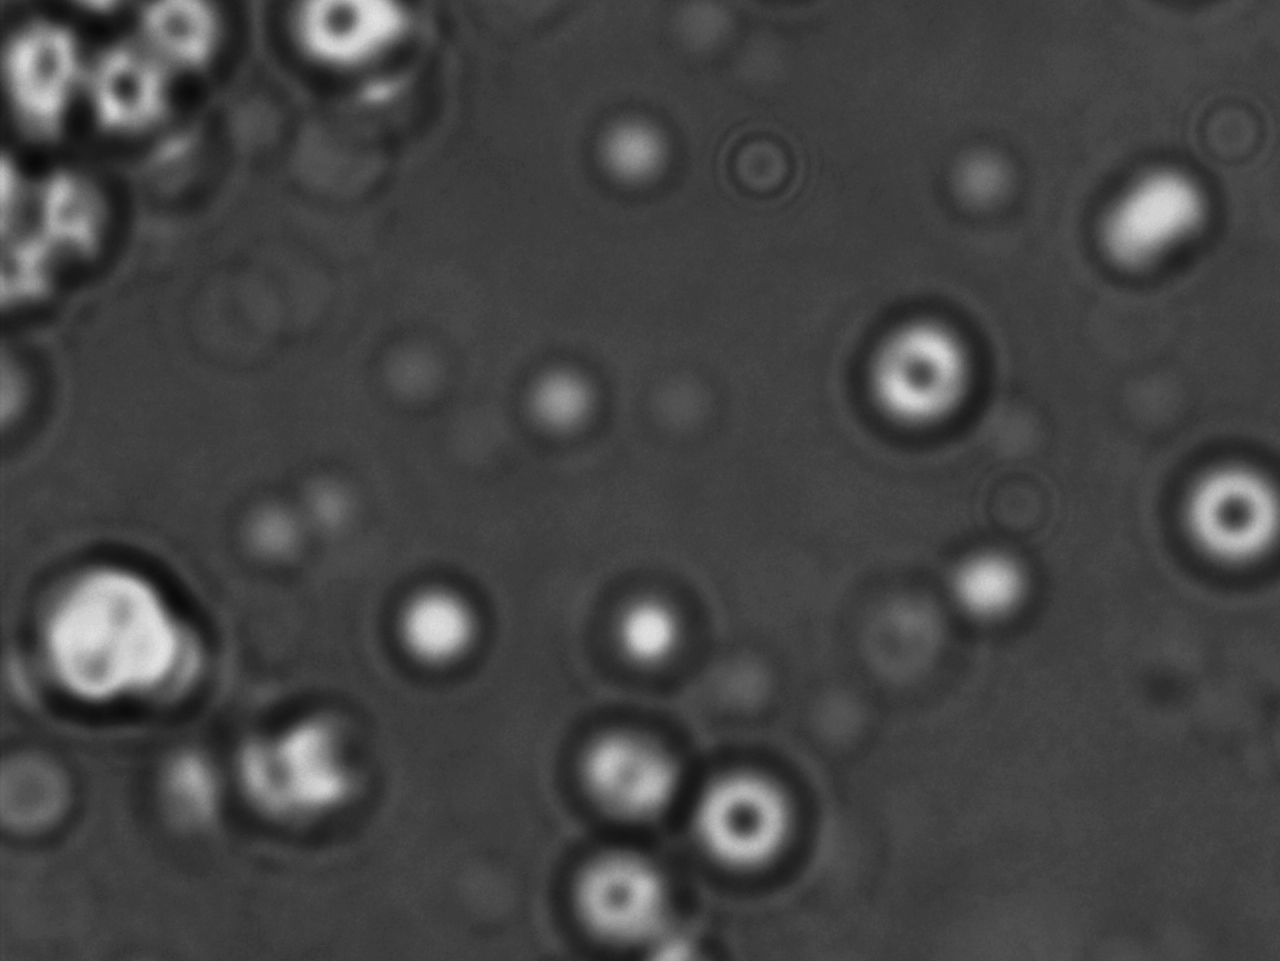depth:32: (841, 295, 998, 450), (682, 755, 821, 890), (546, 828, 680, 956), (1165, 443, 1280, 580)
